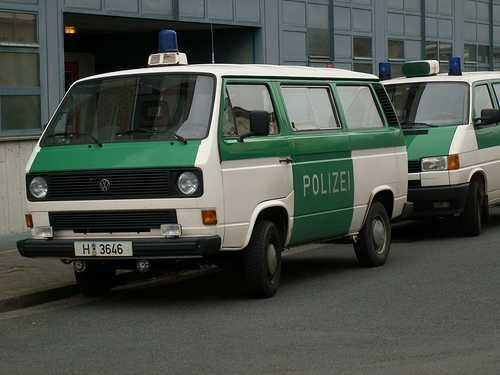Police Van: (53, 53, 421, 285), (395, 69, 500, 215)
